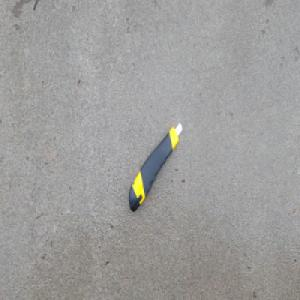Cutter: (128, 120, 183, 212)
